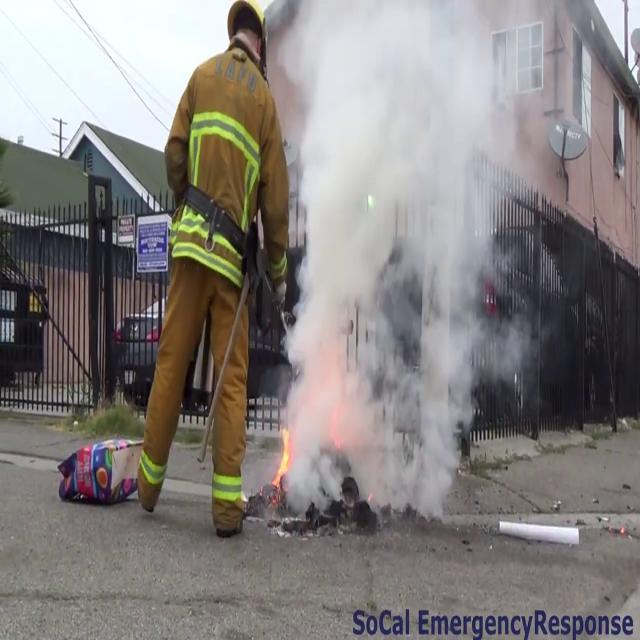Fire: (273, 417, 293, 495)
Smoke: (277, 0, 529, 524)
